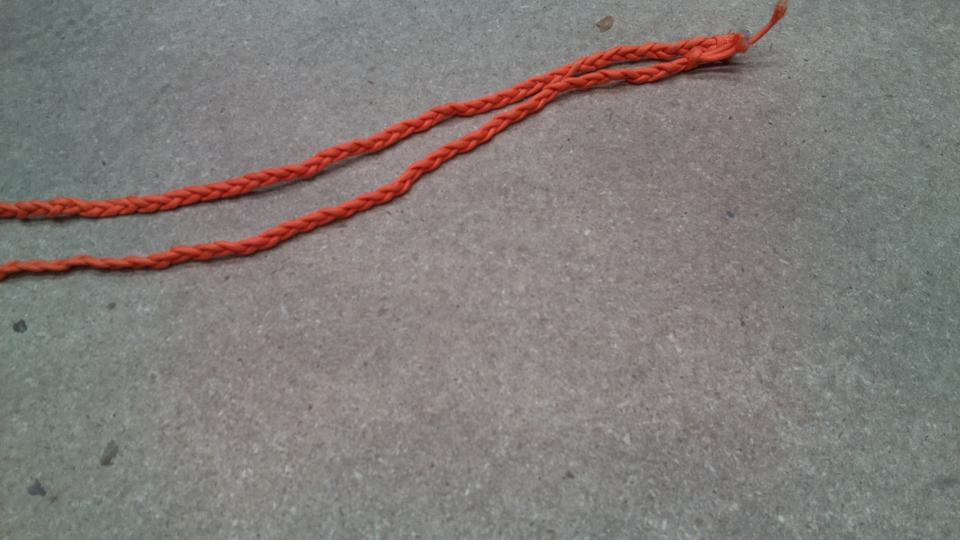rope: (1, 27, 757, 288)
